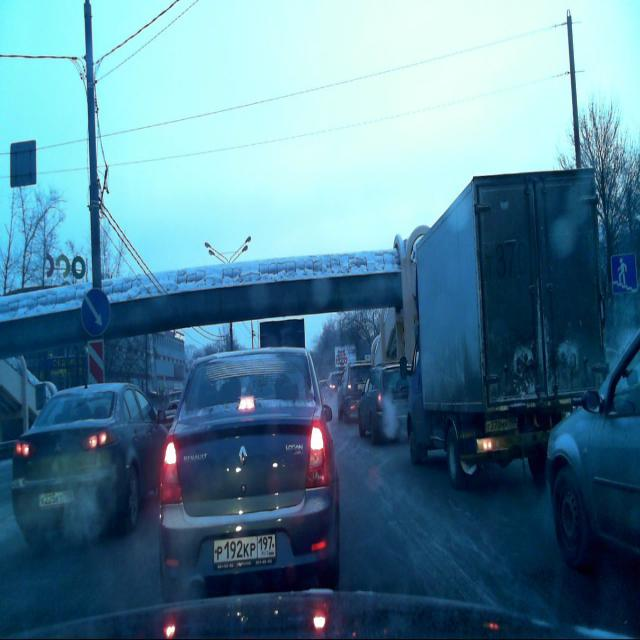road sign: (611, 252, 639, 298)
